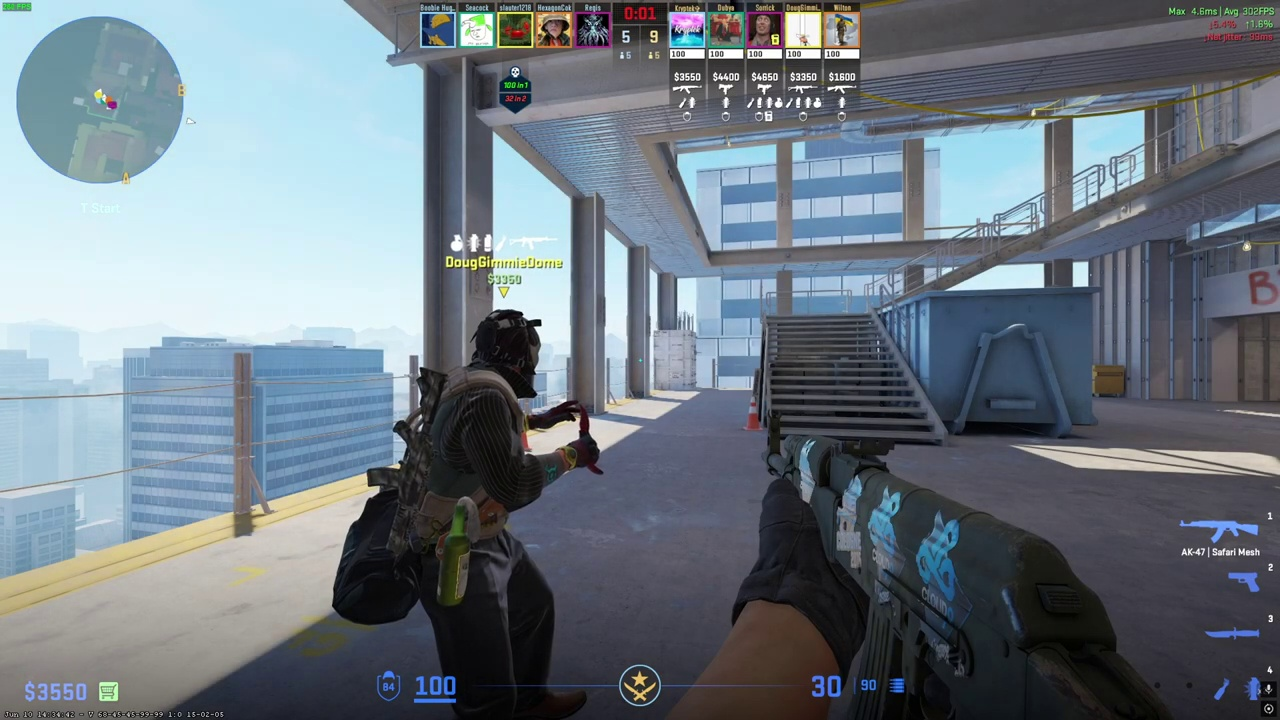Terrorist: (393, 309, 586, 718)
